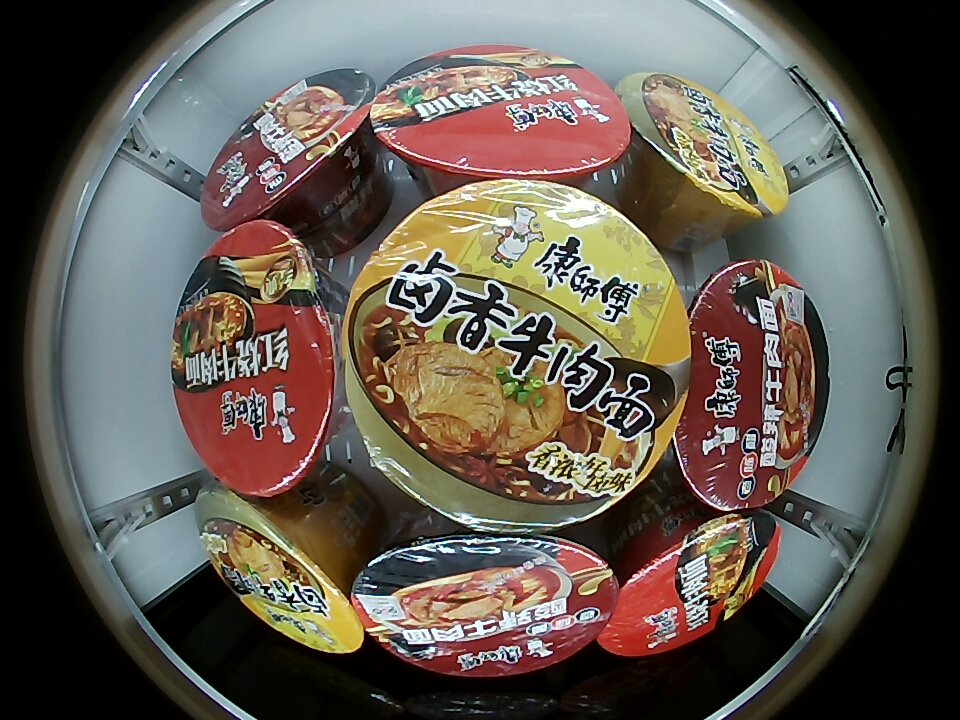hongshaoniurou: (170, 221, 338, 497), (368, 47, 633, 182), (600, 510, 783, 656)
luxiangniurou: (342, 180, 691, 527), (198, 494, 366, 655), (622, 72, 789, 222)
suanlaniurou: (673, 260, 829, 512), (352, 531, 619, 677), (201, 68, 379, 229)
